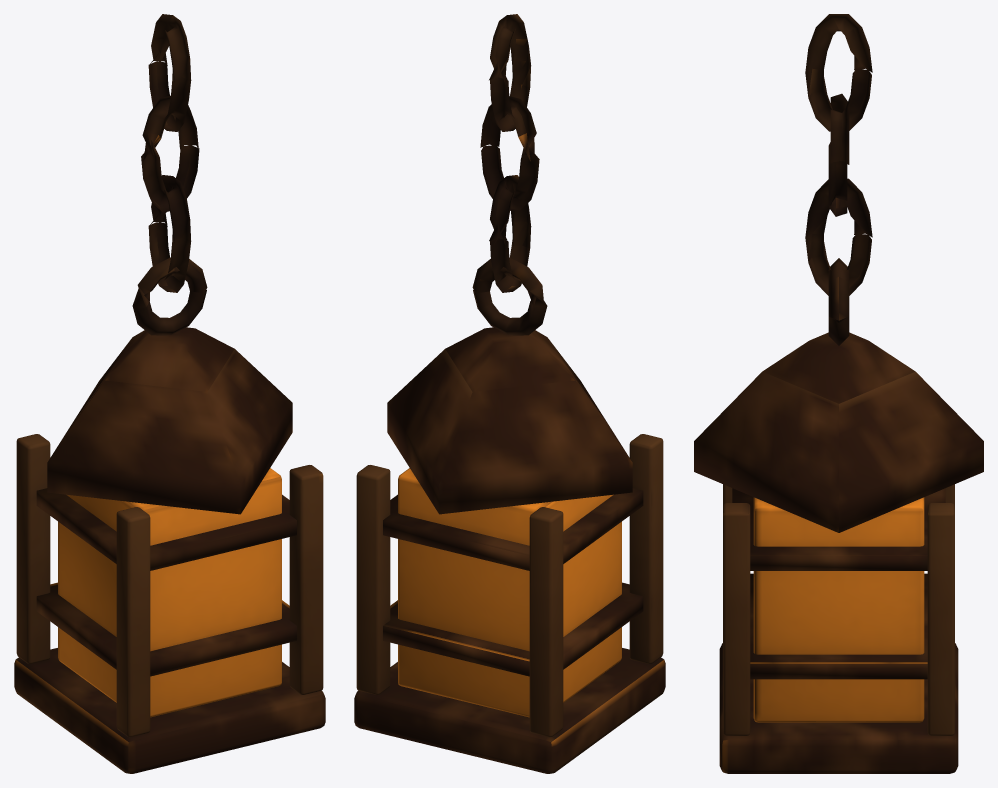
Rendered from maze_lantern.obj.
The picture shows the model from 3 angles, left to right: view 1: azimuth 30°, elevation 25°; view 2: azimuth 150°, elevation 25°; view 3: azimuth 270°, elevation 25°; orthographic projection. The views are drawn at different scales.
Visible parts, largest first — view 1: part0, fire, part2; view 2: part0, fire, part2; view 3: part0, fire, part2.
Part boxes in pixels (<box>): part0: <box>14,14,325,773</box>; fire: <box>58,468,281,717</box>; part2: <box>16,434,323,737</box>; part0: <box>354,14,665,773</box>; fire: <box>398,468,621,717</box>; part2: <box>356,434,663,737</box>; part0: <box>694,14,983,773</box>; fire: <box>753,497,924,722</box>; part2: <box>723,484,954,735</box>.
Size of the model in its own units: 0.34 by 0.9211 by 0.34.
